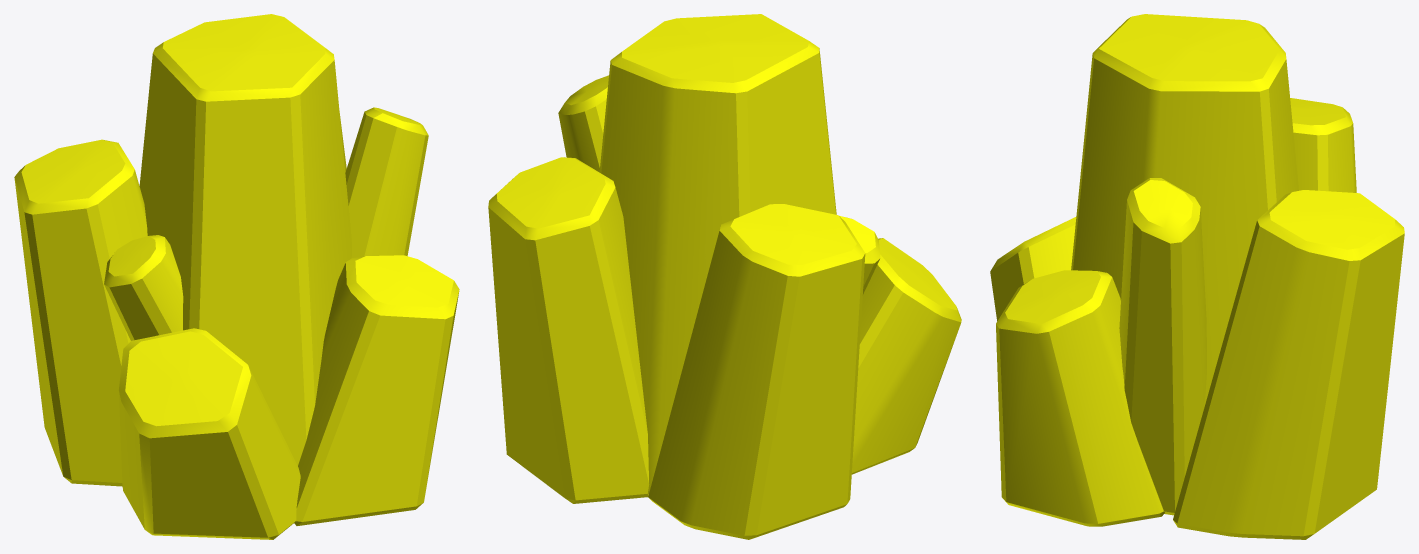
Rendered from Crystal_Big.glb.
3 renders of one model, left to right at view 1: azimuth 30°, elevation 25°; view 2: azimuth 150°, elevation 25°; view 3: azimuth 270°, elevation 25°, orthographic. The views are drawn at different scales.
Parts seen in each view (by area): view 1: Crystal_Big; view 2: Crystal_Big; view 3: Crystal_Big.
Boxes of the visible parts, box(x1,y1,x2,y2) form: Crystal_Big: box(14, 14, 459, 539); Crystal_Big: box(488, 14, 961, 539); Crystal_Big: box(990, 14, 1404, 539).
Size of the model in its own units: 1.48 by 1.65 by 1.48.
Materials: 1 (1 with a texture image).
